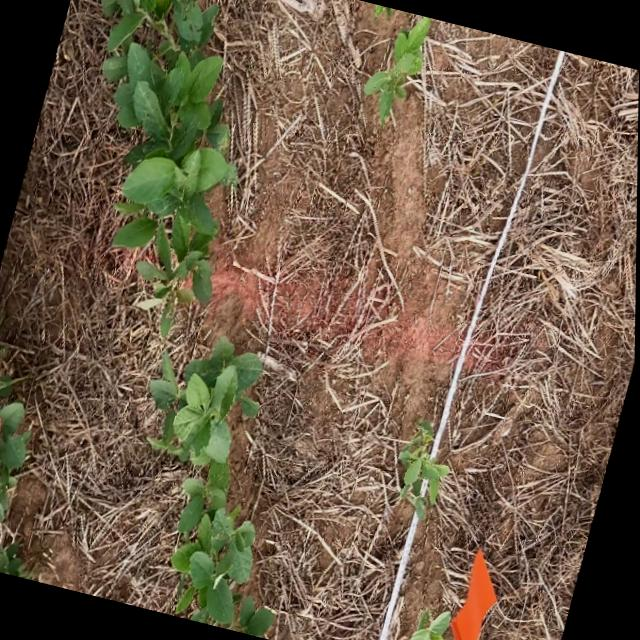soy_plant: (101, 0, 237, 336), (151, 339, 274, 636), (365, 17, 429, 123), (400, 420, 450, 518), (0, 378, 30, 520)
